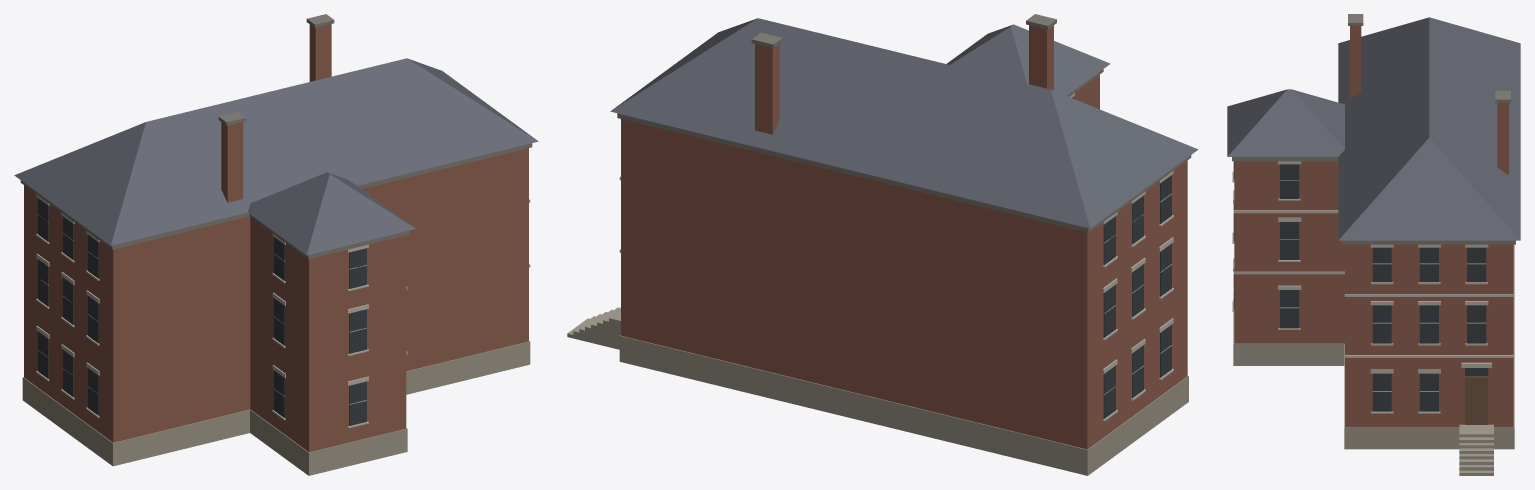
The model's file is house_1932_calumet__draft_1904.glb.
3 views of the same model, side by side, from view 1: azimuth 30°, elevation 25°; view 2: azimuth 150°, elevation 25°; view 3: azimuth 270°, elevation 25° (orthographic). The views are drawn at different scales.
Visible parts, largest first — view 1: house_1932_calumet__draft_1904; view 2: house_1932_calumet__draft_1904; view 3: house_1932_calumet__draft_1904.
Boxes of the visible parts, x1,y1,x2,y2 form: house_1932_calumet__draft_1904: [14, 14, 538, 475]; house_1932_calumet__draft_1904: [567, 14, 1198, 475]; house_1932_calumet__draft_1904: [1227, 14, 1520, 475].
Size of the model in its own units: 27.15 by 16.97 by 15.2.
